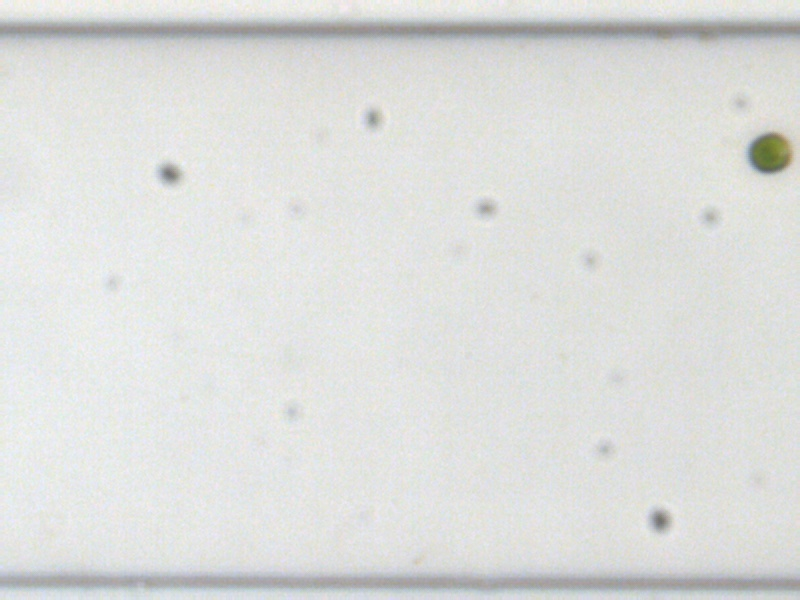Platymonas: (748, 133, 793, 171)
